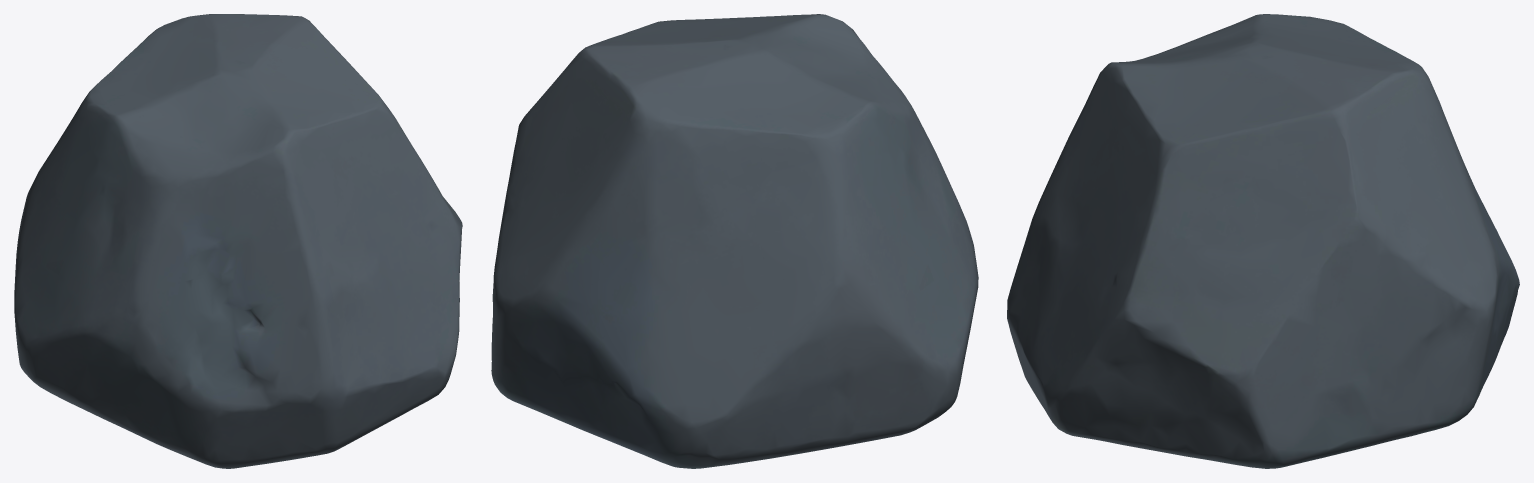
The model's file is rock_boulder3.glb.
3 views of the same model, side by side, from view 1: azimuth 30°, elevation 25°; view 2: azimuth 150°, elevation 25°; view 3: azimuth 270°, elevation 25° (orthographic). The views are drawn at different scales.
Parts seen in each view (by area): view 1: tripo_node_462fb314-9d7b-4434-8643-05efa3b25e68; view 2: tripo_node_462fb314-9d7b-4434-8643-05efa3b25e68; view 3: tripo_node_462fb314-9d7b-4434-8643-05efa3b25e68.
Part boxes in pixels (box(x1,y1,x2,y2)): tripo_node_462fb314-9d7b-4434-8643-05efa3b25e68: box(14, 14, 462, 468); tripo_node_462fb314-9d7b-4434-8643-05efa3b25e68: box(491, 14, 978, 468); tripo_node_462fb314-9d7b-4434-8643-05efa3b25e68: box(1007, 14, 1519, 468).
Bounding box in the file's own units: 0.9997 × 0.7552 × 0.9675.
1 material, 1 textured.
